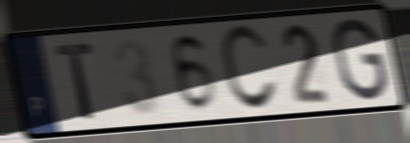2: (281, 21, 331, 106)
3: (113, 35, 161, 119)
6: (167, 31, 219, 114)
C: (216, 21, 281, 115)
G: (330, 16, 391, 104)
T: (52, 40, 98, 123)
